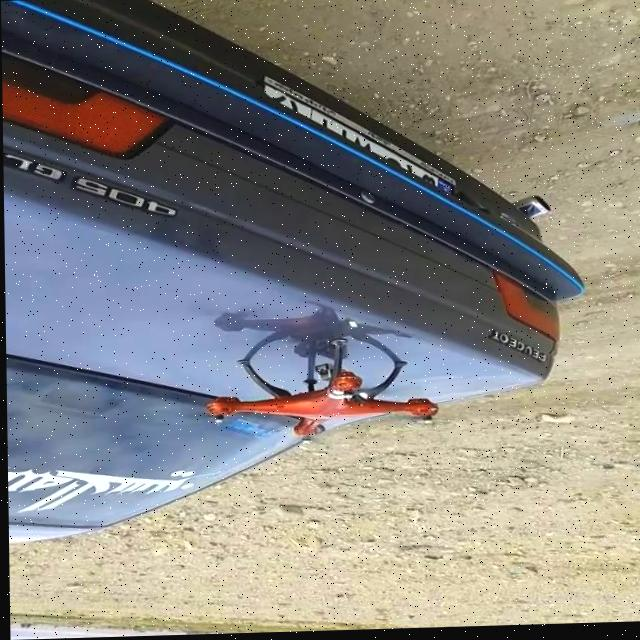drone: (175, 328, 448, 450)
